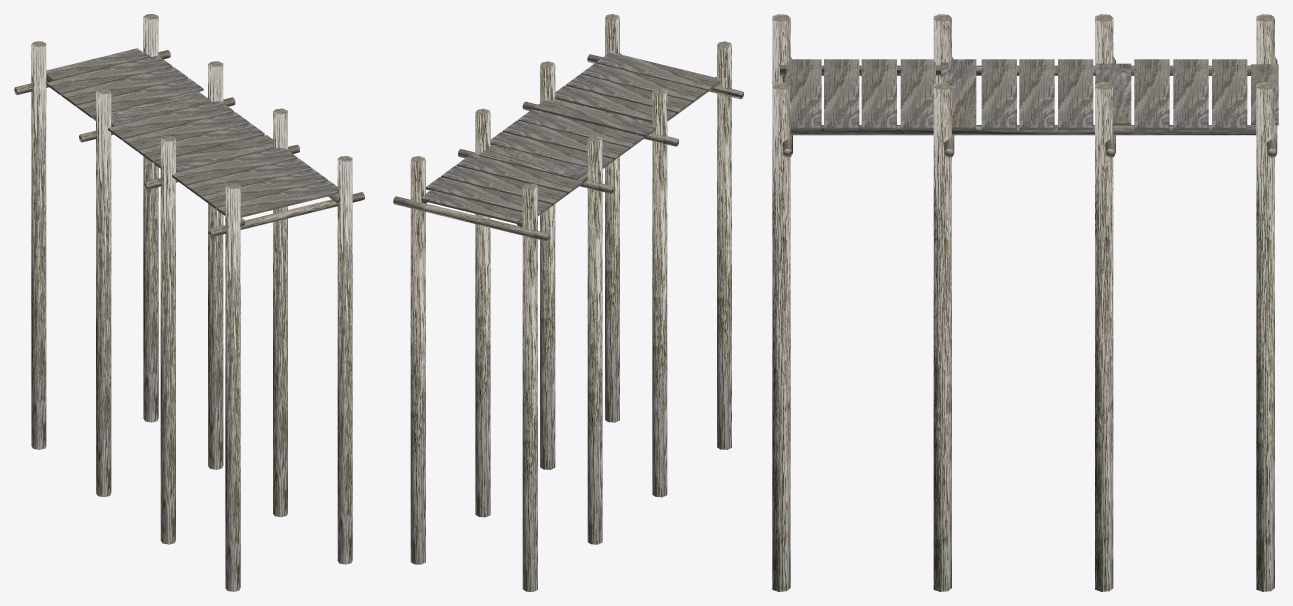
File: wooden_bridge.dae
3 renders of one model, left to right at view 1: azimuth 30°, elevation 25°; view 2: azimuth 150°, elevation 25°; view 3: azimuth 270°, elevation 25°, orthographic. The views are drawn at different scales.
Parts seen in each view (by area): view 1: Cube_008; view 2: Cube_008; view 3: Cube_008.
Part boxes in pixels (x1=…): Cube_008: x1=14, y1=14, x2=364, y2=591; Cube_008: x1=393, y1=14, x2=743, y2=591; Cube_008: x1=772, y1=14, x2=1278, y2=591.
Bounding box in the file's own units: 2.72 × 6.28 × 6.86.
Materials: 2 (2 with a texture image).
